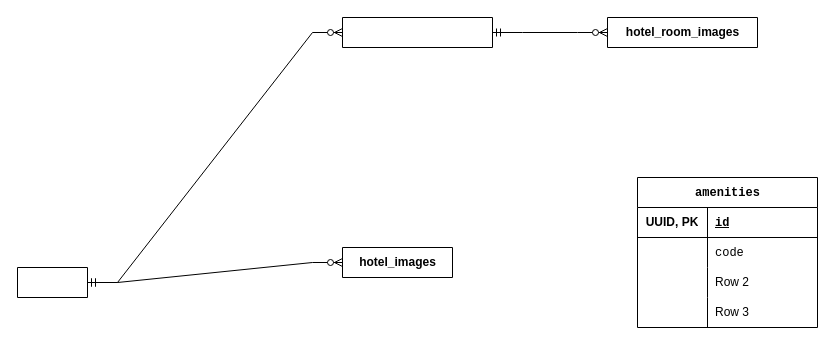
This 835x345 diagram has some shape labels left out. The shapes that lost their labels are listed below. From the top down, each one's centre as x and y in pixels, then its label:
[417,32]: hotel_room_types
[52,282]: hotels
